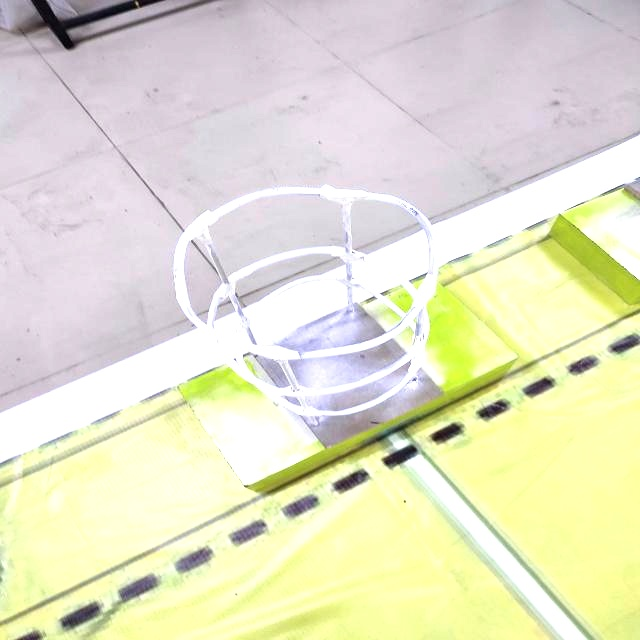silo: (141, 171, 483, 448)
